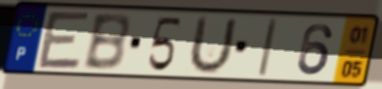5: (146, 15, 184, 73)
6: (297, 22, 334, 77)
B: (80, 11, 132, 72)
E: (35, 9, 93, 72)
I: (255, 17, 280, 79)
U: (185, 14, 240, 77)
